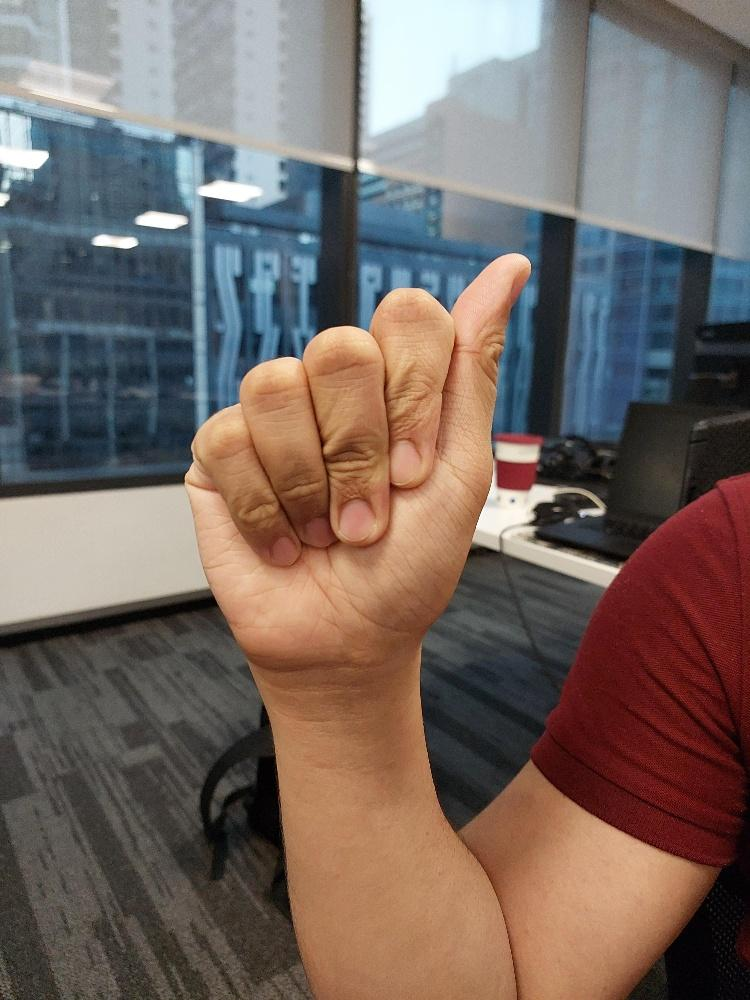a: (180, 248, 535, 673)
